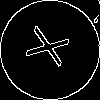X: (25, 25, 80, 71)
